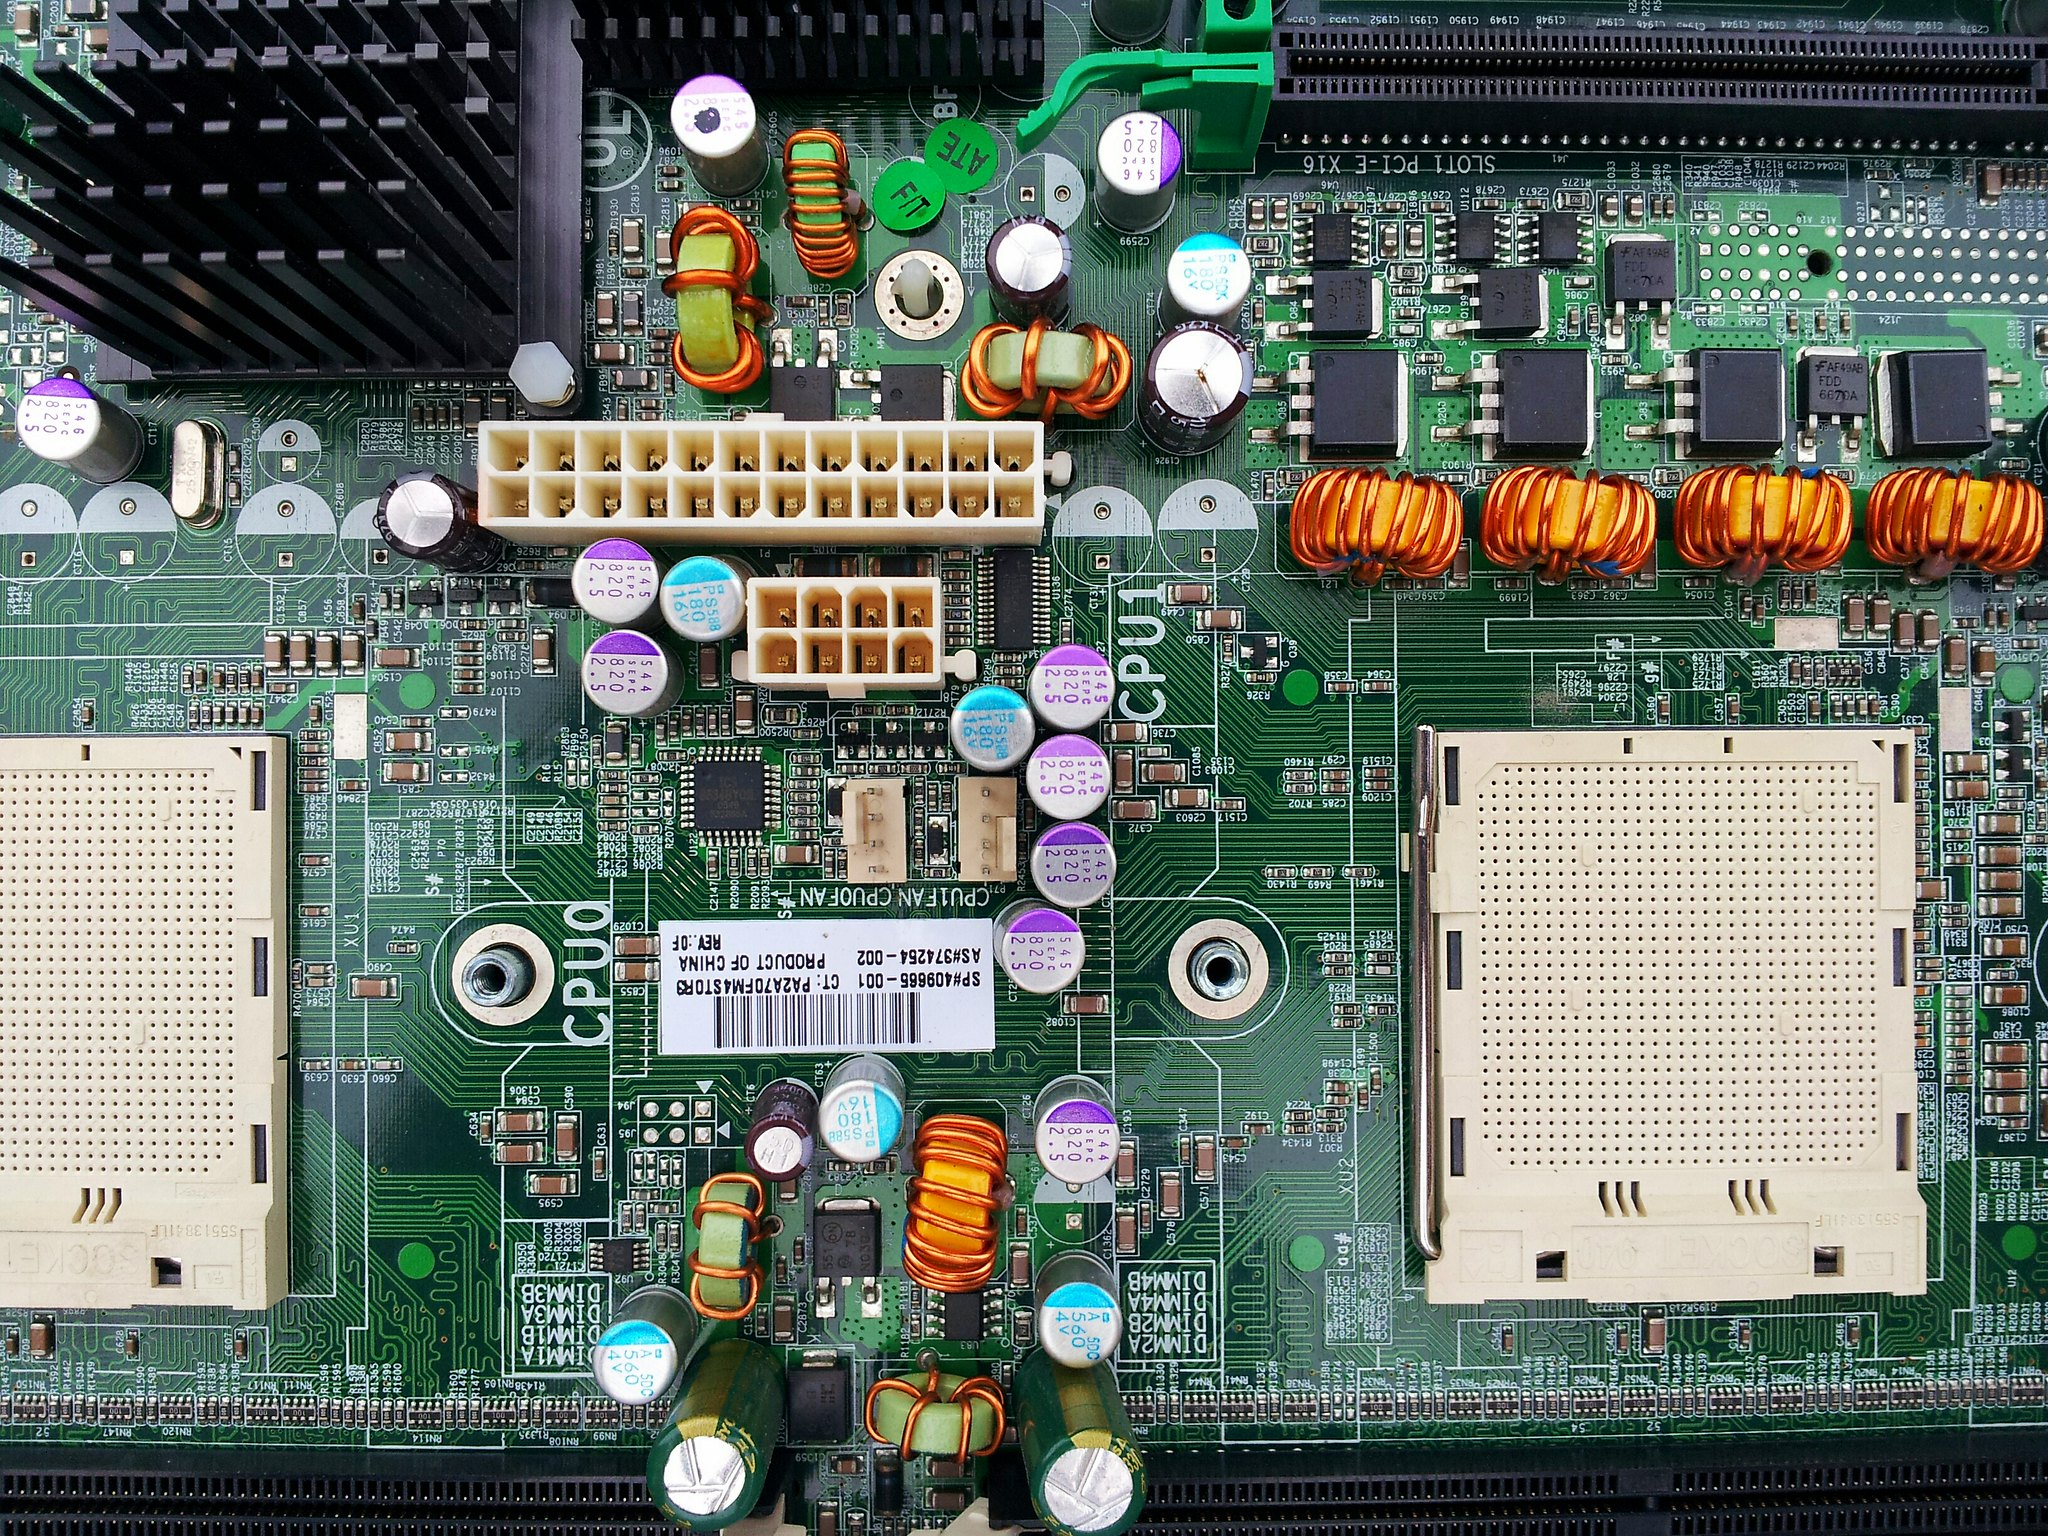Capacitor: (642, 1333, 797, 1536), (1006, 1346, 1158, 1536), (1127, 316, 1253, 458), (376, 466, 498, 573), (982, 213, 1079, 329), (740, 1079, 814, 1191)
